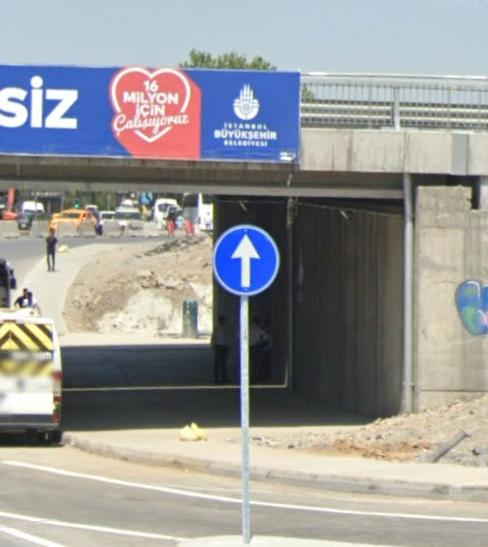forward: (215, 226, 280, 297)
